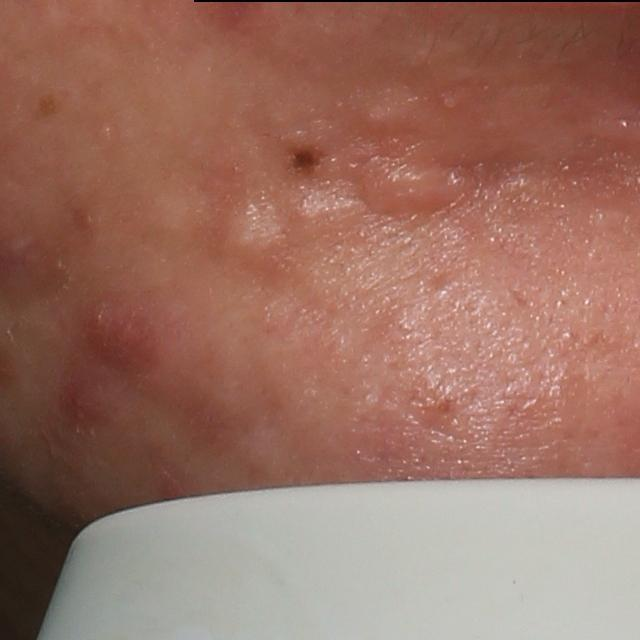hypertrophic_scar: (352, 155, 467, 217), (218, 192, 287, 273), (136, 187, 215, 249), (356, 84, 426, 138), (299, 190, 380, 229)
nevus: (280, 127, 331, 184)
papule: (74, 300, 157, 378), (56, 377, 105, 428)
